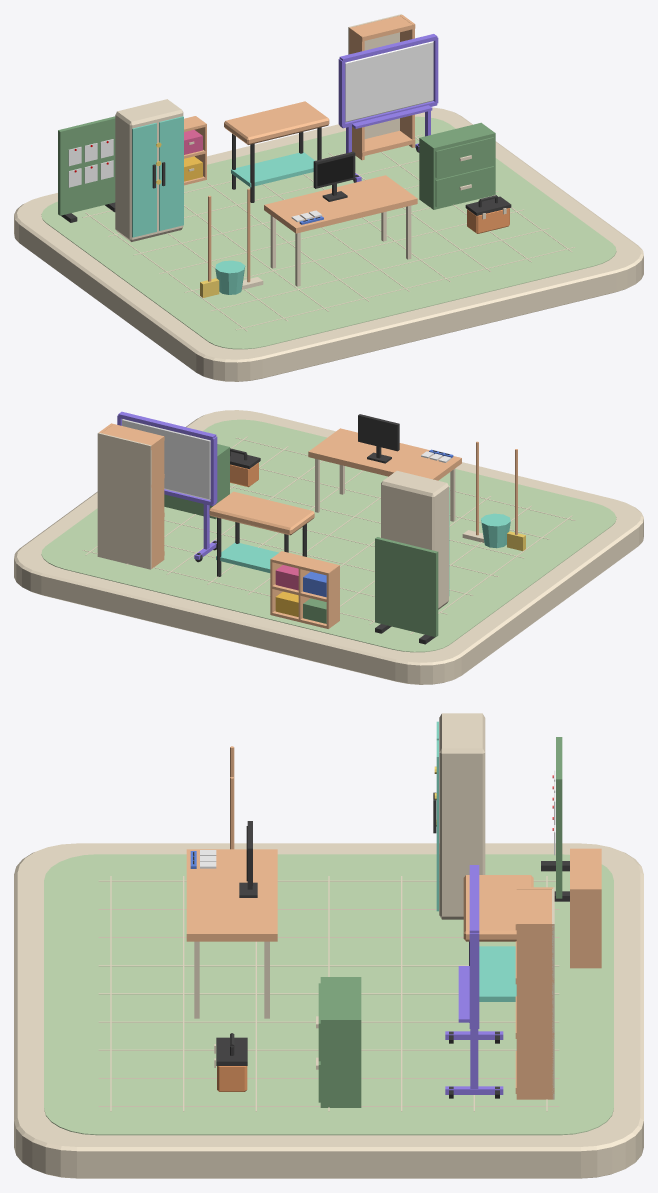
Rendered from room.fbx.
3 renders of one model, top to bottom at view 1: azimuth 30°, elevation 25°; view 2: azimuth 150°, elevation 25°; view 3: azimuth 270°, elevation 25°, orthographic. The views are drawn at different scales.
Visible parts, largest first — view 1: COM-02 Floor Surface, COM-01 Rounded Base Direct, Cabinet, Top, Writing surface, Panel, Equipment case, Door, Worktop, Door.001, Lower shelf, Frame (+10 smaller); view 2: COM-02 Floor Surface, COM-01 Rounded Base Direct, Back, Panel, Equipment case, Top, Writing surface, Worktop, Side, Frame, Cabinet, Lower shelf (+11 smaller); view 3: COM-02 Floor Surface, COM-01 Rounded Base Direct, Top, Equipment case, Side.001, Cabinet, Worktop, Cubbies divider.002, Lower shelf, Shelf.003, Cubbies shelf.002, Panel (+9 smaller).
Part boxes in pixels (left/top/right/bottom): COM-02 Floor Surface: left=41, top=116, right=616, bottom=349; COM-01 Rounded Base Direct: left=14, top=107, right=643, bottom=381; Cabinet: left=419, top=122, right=495, bottom=209; Top: left=264, top=175, right=417, bottom=286; Writing surface: left=345, top=41, right=433, bottom=122; Panel: left=58, top=116, right=115, bottom=215; Equipment case: left=115, top=99, right=183, bottom=241; Door: left=132, top=123, right=156, bottom=237; Worktop: left=224, top=101, right=329, bottom=144; Door.001: left=159, top=116, right=183, bottom=230; Lower shelf: left=231, top=152, right=315, bottom=187; Frame: left=313, top=151, right=355, bottom=201; COM-02 Floor Surface: left=41, top=419, right=616, bottom=652; COM-01 Rounded Base Direct: left=14, top=410, right=643, bottom=684; Back: left=97, top=432, right=151, bottom=569; Panel: left=375, top=537, right=438, bottom=637; Equipment case: left=381, top=470, right=448, bottom=609; Top: left=308, top=428, right=461, bottom=521; Writing surface: left=122, top=419, right=210, bottom=500; Worktop: left=209, top=491, right=314, bottom=535; Side: left=149, top=435, right=164, bottom=568; Frame: left=358, top=414, right=399, bottom=463; Cabinet: left=164, top=444, right=229, bottom=519; Lower shelf: left=216, top=542, right=278, bottom=572; COM-02 Floor Surface: left=44, top=854, right=613, bottom=1135; COM-01 Rounded Base Direct: left=14, top=843, right=643, bottom=1178; Top: left=186, top=849, right=277, bottom=1018; Equipment case: left=439, top=713, right=485, bottom=919; Side.001: left=516, top=922, right=553, bottom=1099; Cabinet: left=316, top=977, right=361, bottom=1107; Worktop: left=463, top=875, right=533, bottom=941; Cubbies divider.002: left=570, top=889, right=601, bottom=968; Lower shelf: left=479, top=946, right=516, bottom=1001; Shelf.003: left=515, top=887, right=553, bottom=930; Cubbies shelf.002: left=570, top=848, right=601, bottom=888; Panel: left=556, top=737, right=562, bottom=898.
Bounding box in the file's own units: 600 × 190 × 520.
